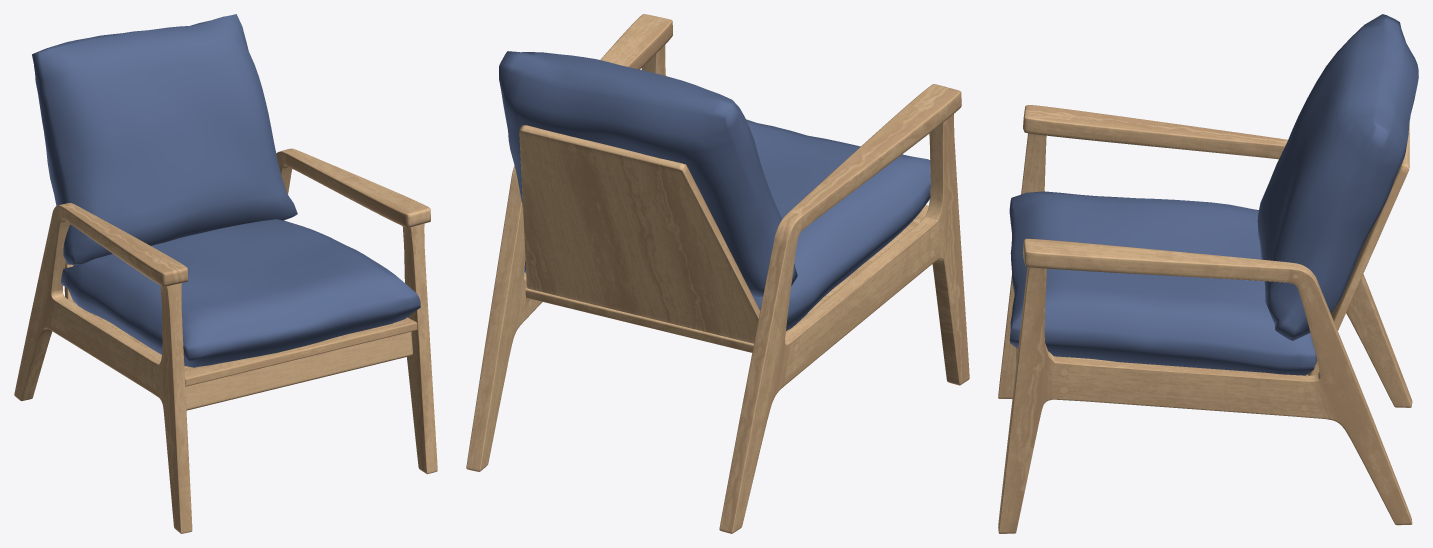
The model's file is blue-oak.glb.
3 views of the same model, side by side, from view 1: azimuth 30°, elevation 25°; view 2: azimuth 150°, elevation 25°; view 3: azimuth 270°, elevation 25° (orthographic). The views are drawn at different scales.
Parts seen in each view (by area): view 1: krosna; view 2: krosna; view 3: krosna.
Boxes of the visible parts, x1,y1,x2,y2 form: krosna: (14,14,437,533); krosna: (466,14,969,533); krosna: (998,14,1418,533).
Size of the model in its own units: 0.8203 by 1.02 by 0.9866.
Materials: 2 (1 with a texture image).
